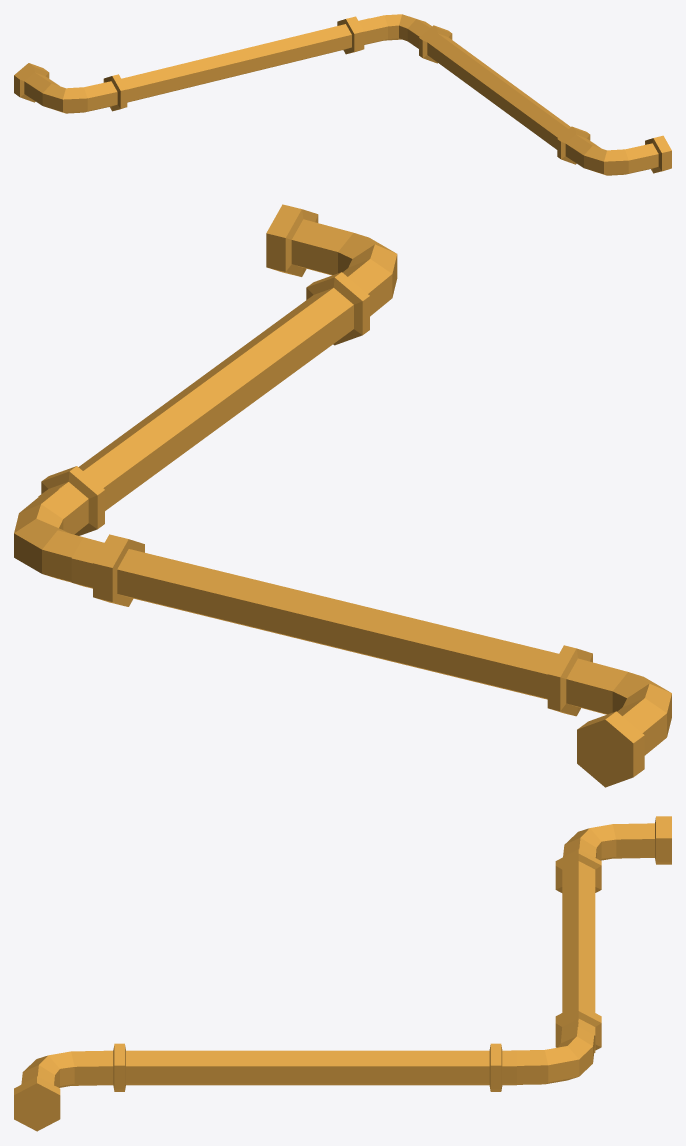
File: SM_Ladder_Sliding_Rail_Corner_Inner.fbx
The picture shows the model from 3 angles, top to bottom: view 1: azimuth 30°, elevation 25°; view 2: azimuth 150°, elevation 25°; view 3: azimuth 270°, elevation 25°; orthographic projection. The views are drawn at different scales.
Visible parts, largest first — view 1: ladder-sliding-rail-corner-inner; view 2: ladder-sliding-rail-corner-inner; view 3: ladder-sliding-rail-corner-inner.
Part boxes in pixels (x1,y1,x2,y2): ladder-sliding-rail-corner-inner: (14,14,671,175); ladder-sliding-rail-corner-inner: (14,204,671,787); ladder-sliding-rail-corner-inner: (14,816,671,1131).
Size of the model in its own units: 0.5615 by 0.0458 by 0.5647.
